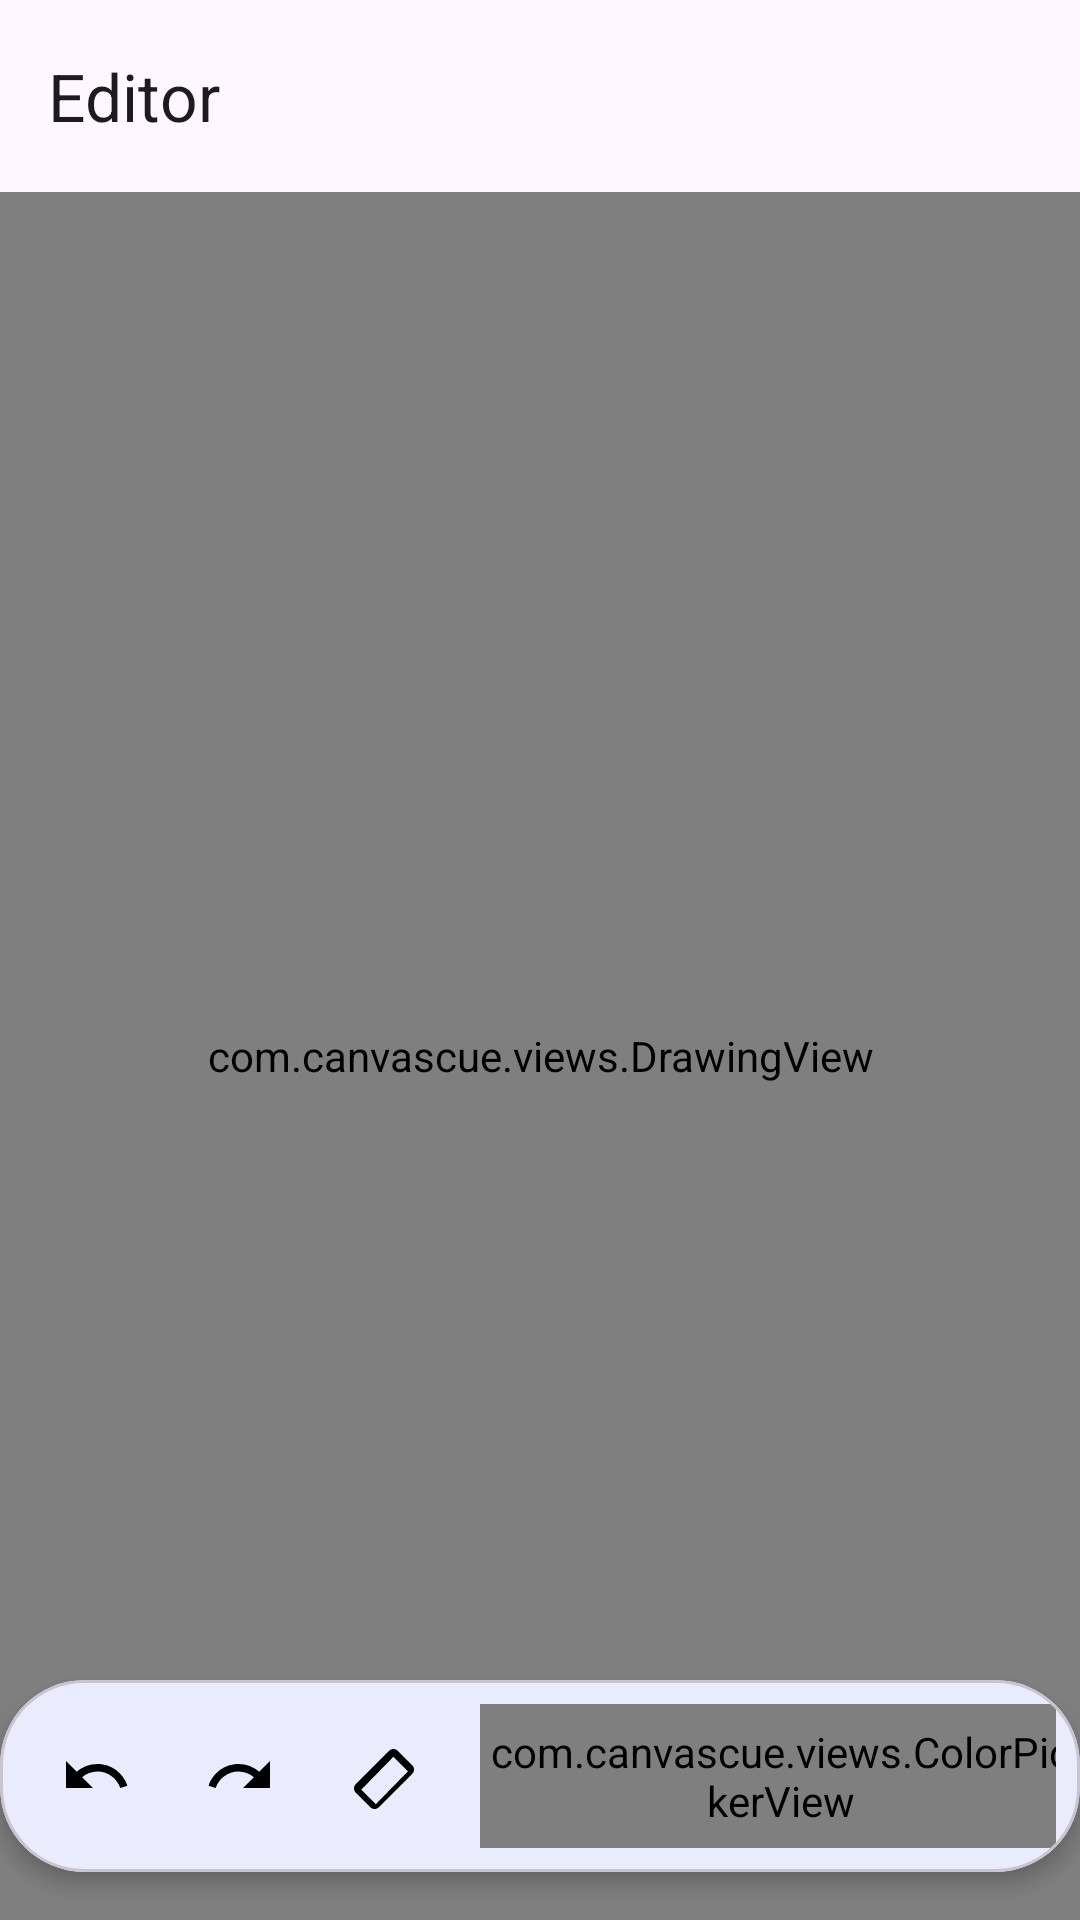

Icons on this 1080w x 1920h Android screen, each with the point to tap as (x,y):
Eraser: (384,1779)
Redo: (239,1774)
Undo: (97,1774)
